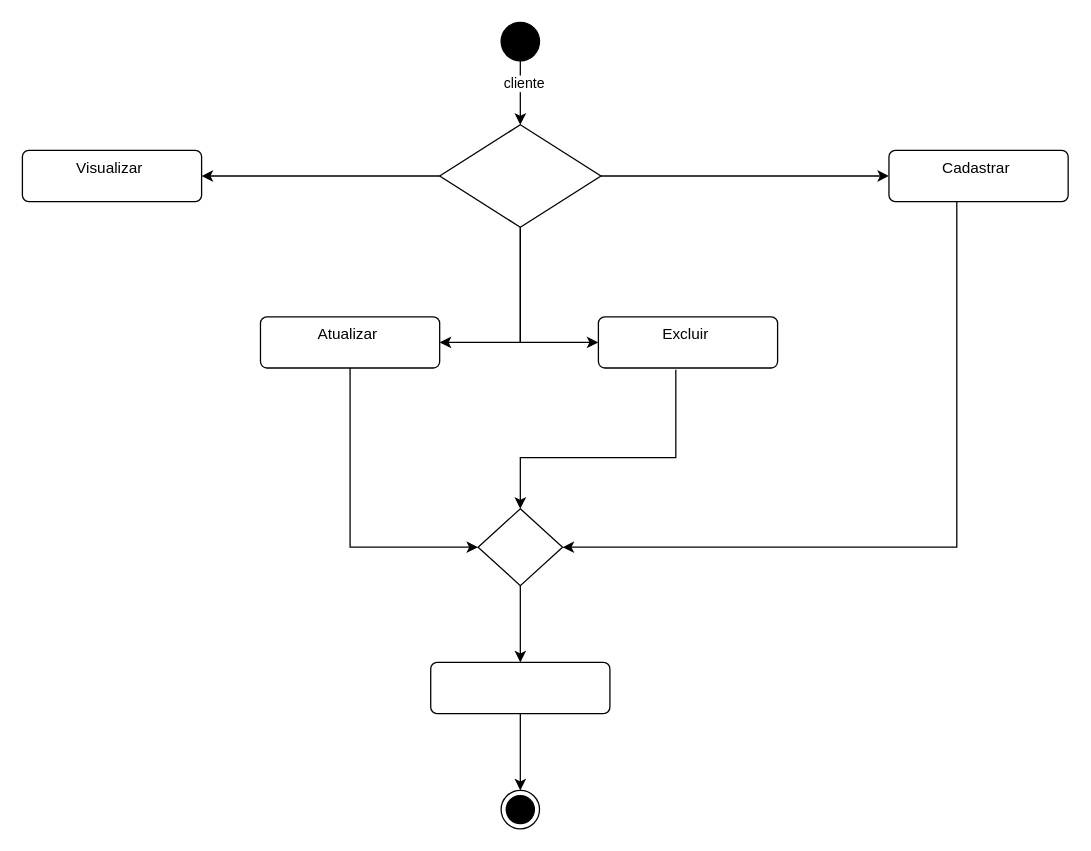
This 1091x851 diagram has some shape labels left out. The shapes that lost their labels are listed below. From the top down, each one's centre as x and y in pixels, then its label:
At [519,175]: "Abre o menu".
At [519,687]: "Inserir dados necessários".
